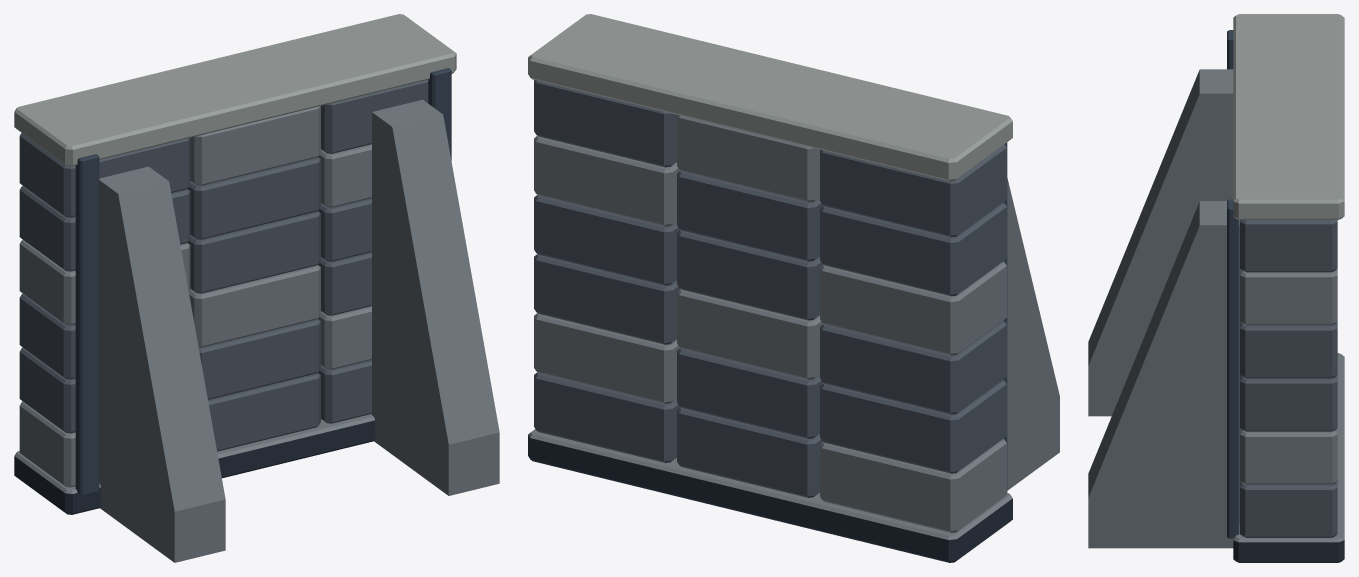
File: wall-buttress.glb
The picture shows the model from 3 angles, left to right: view 1: azimuth 30°, elevation 25°; view 2: azimuth 150°, elevation 25°; view 3: azimuth 270°, elevation 25°; orthographic projection. The views are drawn at different scales.
Visible parts, largest first — view 1: wall-buttress__body; view 2: wall-buttress__body; view 3: wall-buttress__body.
Boxes of the visible parts, <box> form: wall-buttress__body: <box>14,14,499,562</box>; wall-buttress__body: <box>528,14,1059,562</box>; wall-buttress__body: <box>1088,14,1344,562</box>.
Size of the model in its own units: 2 by 1.8 by 1.15.
